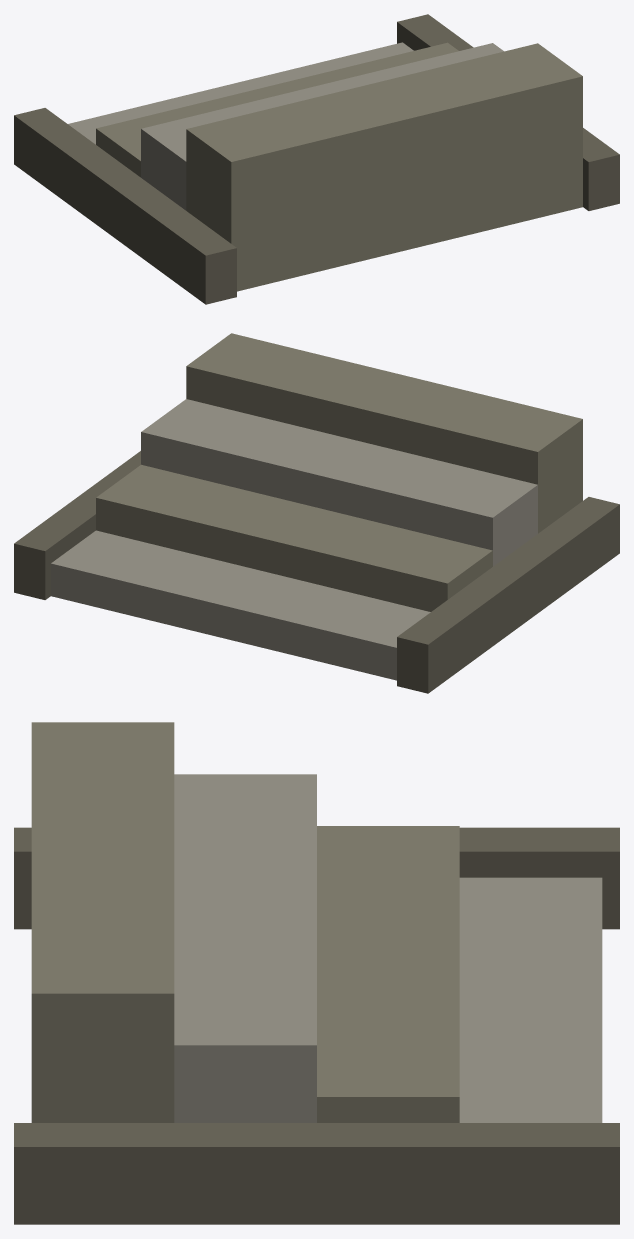
Rendered from stone_steps.glb.
The picture shows the model from 3 angles, top to bottom: view 1: azimuth 30°, elevation 25°; view 2: azimuth 150°, elevation 25°; view 3: azimuth 270°, elevation 25°; orthographic projection. The views are drawn at different scales.
Parts seen in each view (by area): view 1: stone_steps; view 2: stone_steps; view 3: stone_steps.
Boxes of the visible parts, x1,y1,x2,y2 form: stone_steps: (14, 14, 619, 304); stone_steps: (14, 333, 619, 693); stone_steps: (14, 722, 619, 1224).
Bounding box in the file's own units: 2.12 × 0.64 × 1.7.
1 material, 1 textured.
